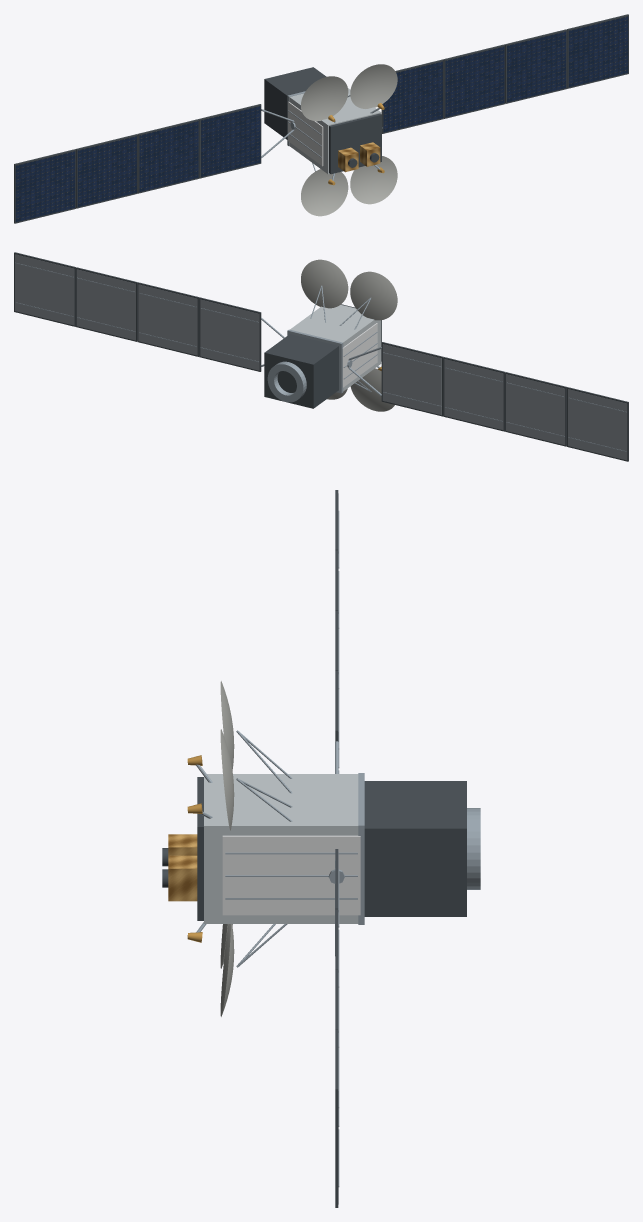
The model's file is ref-bss-702mp-38098.glb.
The picture shows the model from 3 angles, top to bottom: view 1: azimuth 30°, elevation 25°; view 2: azimuth 150°, elevation 25°; view 3: azimuth 270°, elevation 25°; orthographic projection. The views are drawn at different scales.
Visible parts, largest first — view 1: Solar cell panel (×8), Communications reflector (×4), Solar panel frame (×8), Service module, Earth-facing deck, Radiator face, Payload module, Communications feed assembly (×2); view 2: Rear array substrate (×8), Communications reflector (×3), Solar panel frame (×8), Service module, Payload module, Radiator face, Launch adapter ring, Module interface; view 3: Service module, Payload module, Radiator face, Communications feed assembly, Launch adapter ring.
Boxes of the visible parts, box(x1,y1,x2,y2) form: Solar cell panel (×8): box(15, 16, 628, 222); Communications reflector (×4): box(301, 64, 397, 216); Solar panel frame (×8): box(14, 14, 628, 223); Service module: box(264, 67, 326, 139); Earth-facing deck: box(329, 113, 381, 174); Radiator face: box(288, 101, 323, 166); Payload module: box(289, 88, 381, 174); Communications feed assembly (×2): box(338, 142, 380, 172); Rear array substrate (×8): box(15, 254, 627, 460); Communications reflector (×3): box(301, 259, 397, 411); Solar panel frame (×8): box(14, 252, 628, 461); Service module: box(264, 334, 338, 408); Payload module: box(290, 305, 381, 391); Radiator face: box(342, 323, 377, 387); Launch adapter ring: box(267, 361, 306, 402); Module interface: box(287, 329, 343, 393); Service module: box(364, 781, 466, 916); Payload module: box(204, 774, 358, 923); Radiator face: box(222, 835, 360, 915); Communications feed assembly: box(168, 855, 197, 901); Launch adapter ring: box(467, 808, 480, 889).
Size of the model in its own units: 36.86 by 7.95 by 8.28.
Materials: 9 (2 with a texture image).
